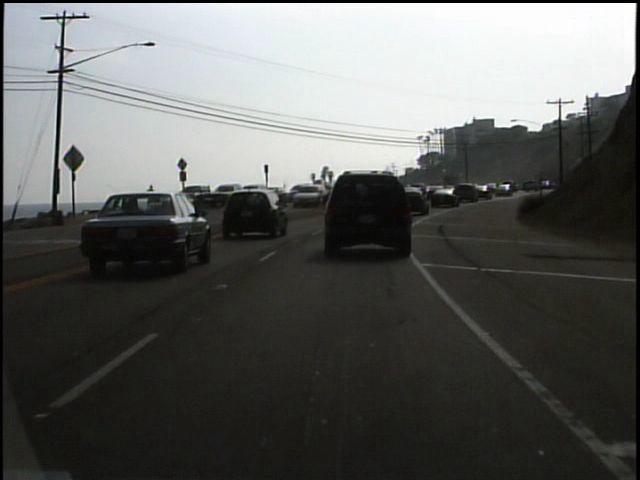person: (144, 182, 161, 211)
